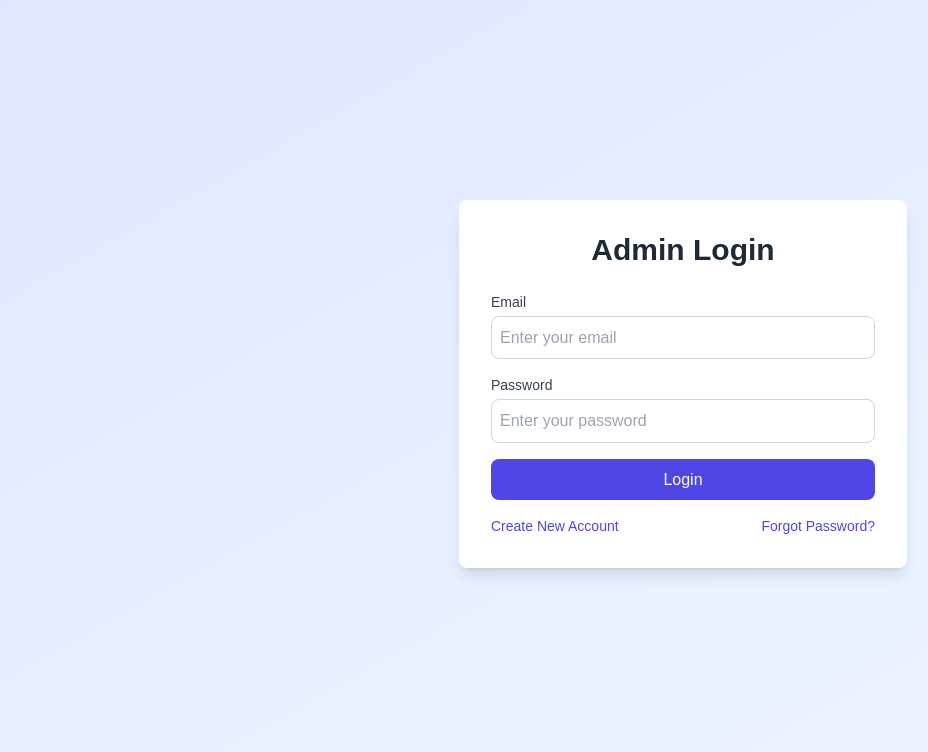
Test: AdminAuth › should register a new admin successfully
The image size is (928, 752).
// Switch to register mode
Click the button "Create New Account" at (555, 526), box [491,516,619,536]
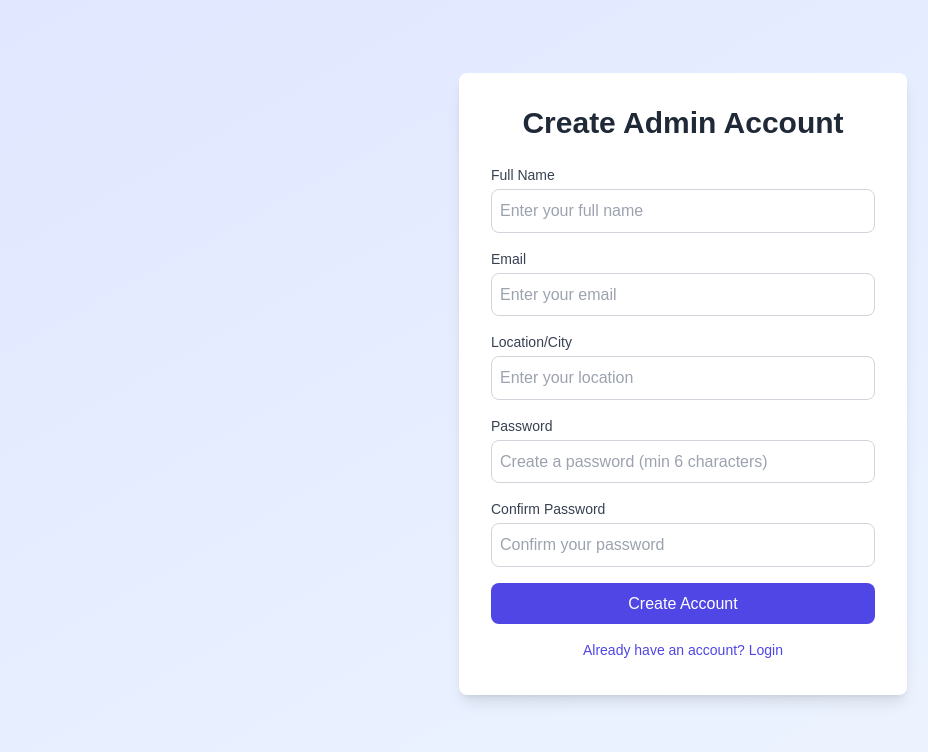
// Fill out the registration form
Type "Test User" into the field with placeholder "Enter your full name" at (683, 211), box [491,189,875,232]
Type "test@example.com" into the field with placeholder "Enter your email" at (683, 294), box [491,272,875,316]
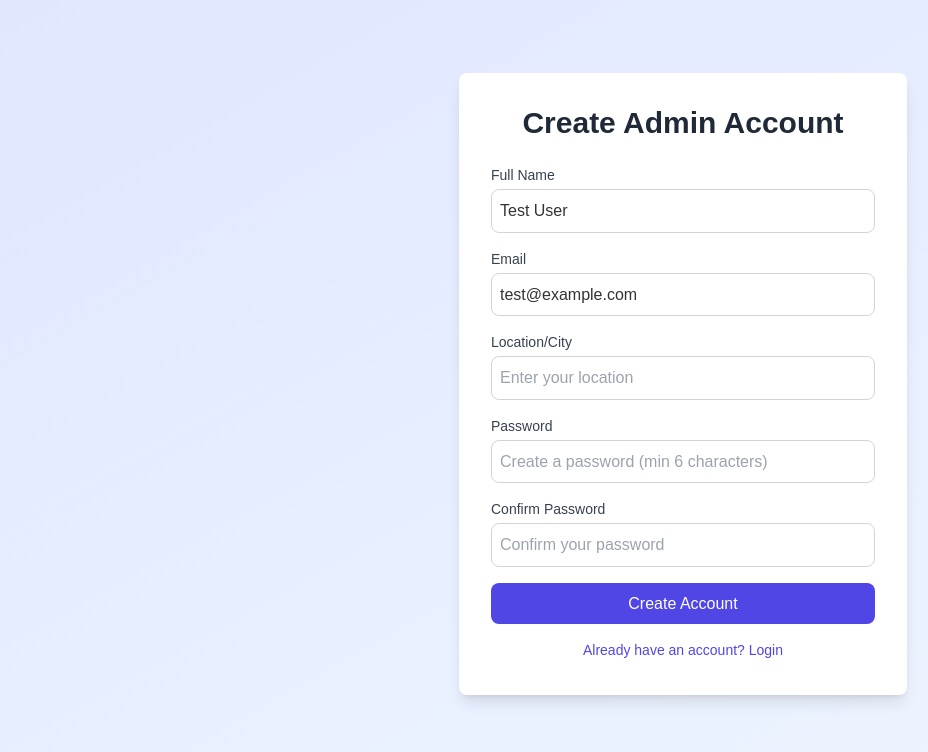
Type "Test Location" into the field with placeholder "Enter your location" at (683, 378), box [491,356,875,400]
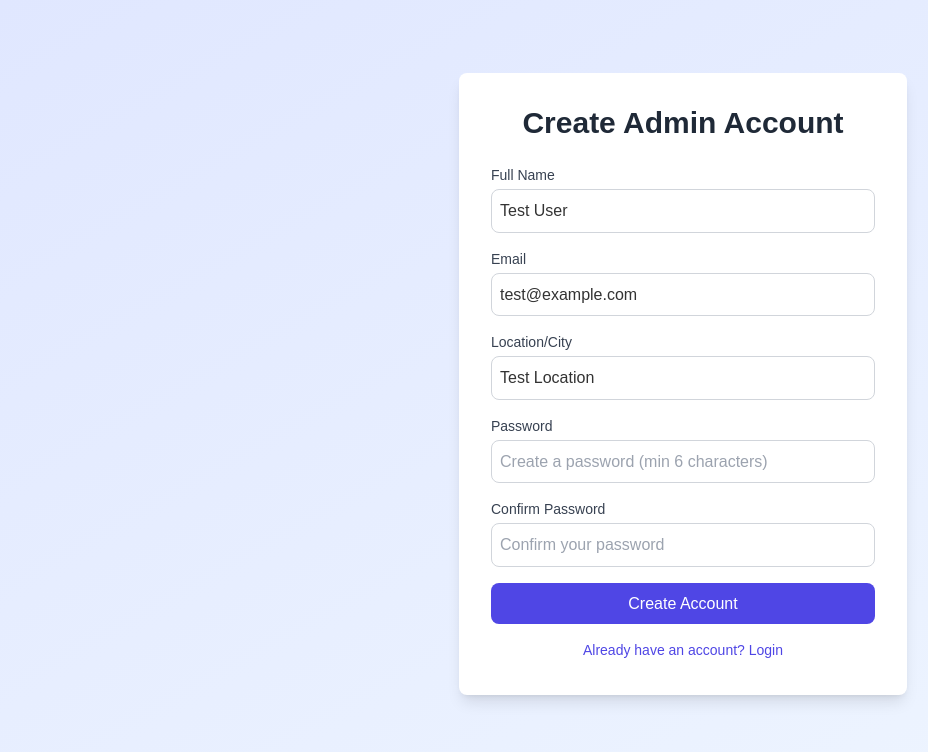
Type "password123" into the password field with placeholder "Create a password (min 6 characters)" at (683, 462), box [491,440,875,483]
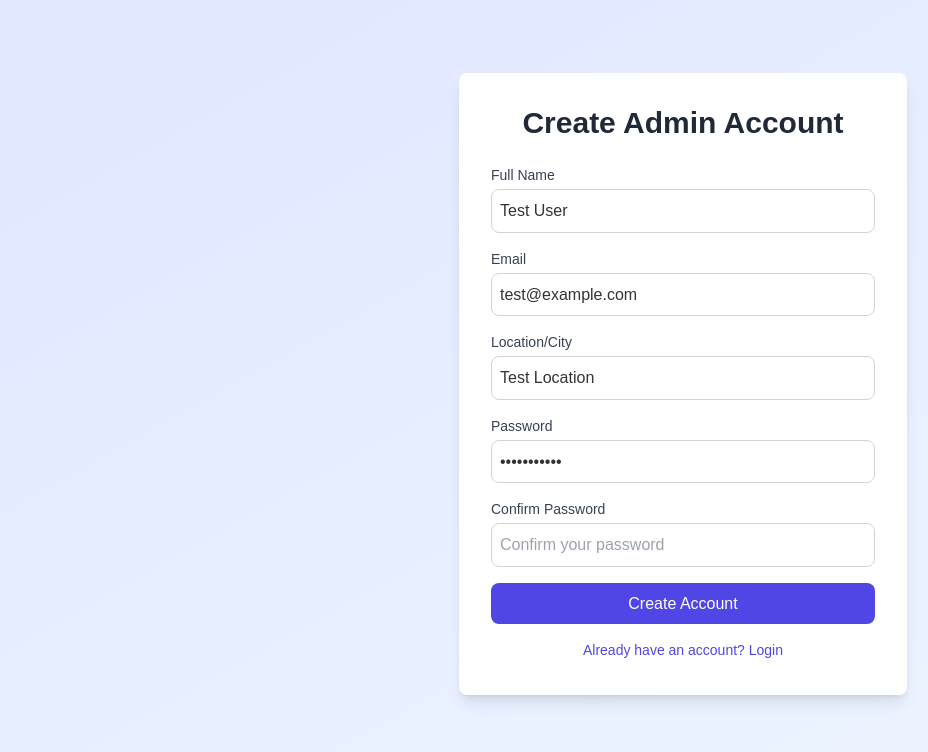
Type "password123" into the password field with placeholder "Confirm your password" at (683, 545), box [491,523,875,567]
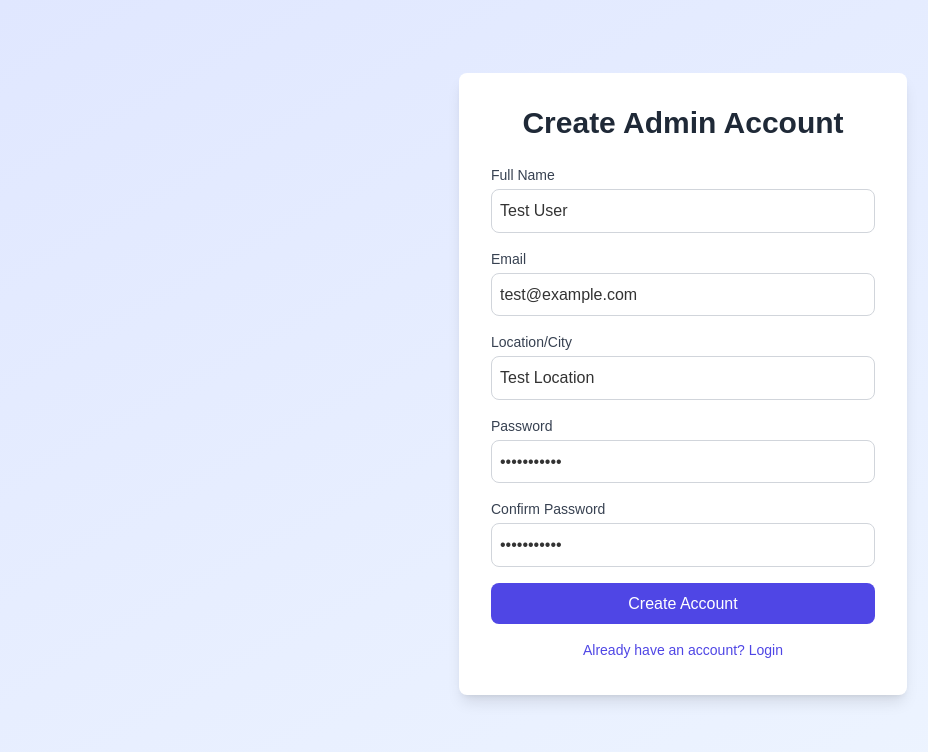
// Submit the form
Click the button "Create Account" at (683, 604), box [491,583,875,624]
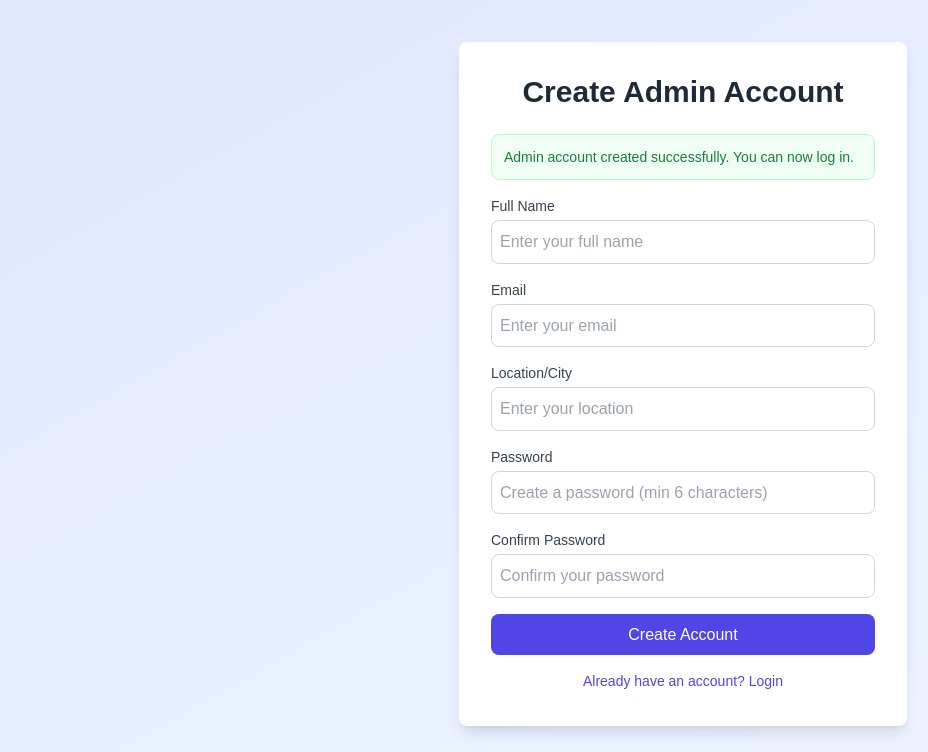
Expected: the text "Admin account created successfully. You can now log in." is shown, [491,134,875,180]
